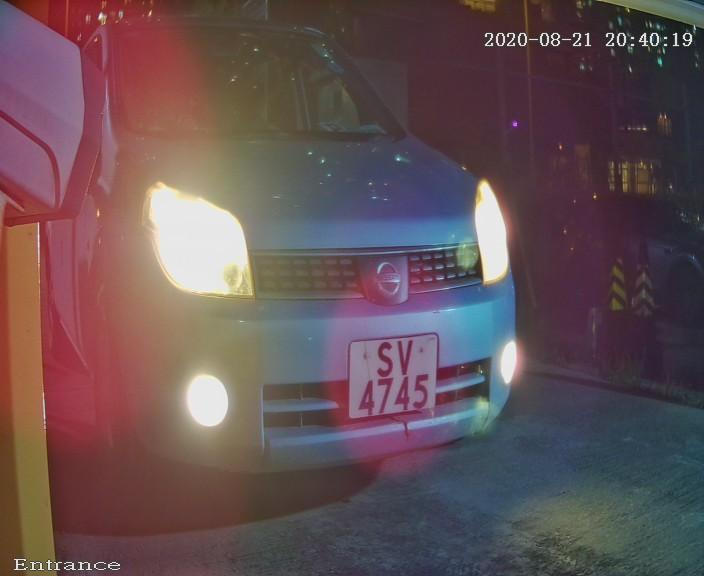Car: (29, 16, 588, 553)
License Plate: (327, 319, 453, 438)
